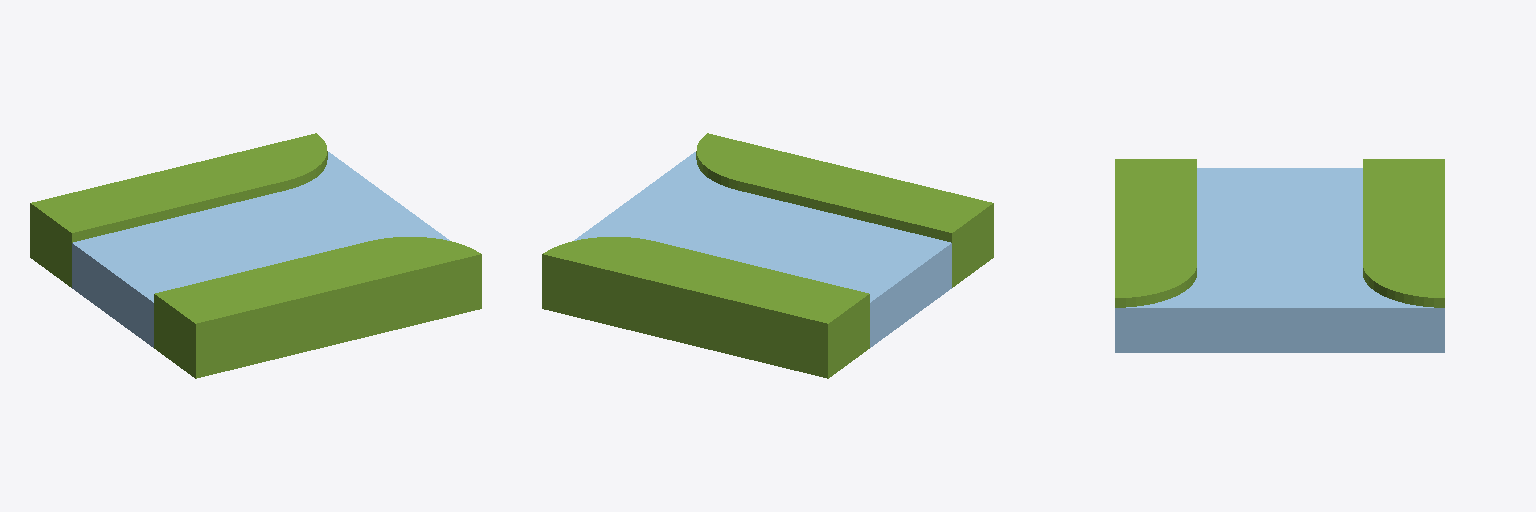
3 views of the same model, side by side, from view 1: azimuth 30°, elevation 25°; view 2: azimuth 150°, elevation 25°; view 3: azimuth 270°, elevation 25° (orthographic).
Visible parts, largest first — view 1: roadTile_176.001; view 2: roadTile_176.001; view 3: roadTile_176.001.
Boxes of the visible parts, x1,y1,x2,y2 form: roadTile_176.001: [30, 133, 481, 378]; roadTile_176.001: [542, 133, 993, 378]; roadTile_176.001: [1115, 159, 1444, 352].
Size of the model in its own units: 3 by 0.55 by 3.